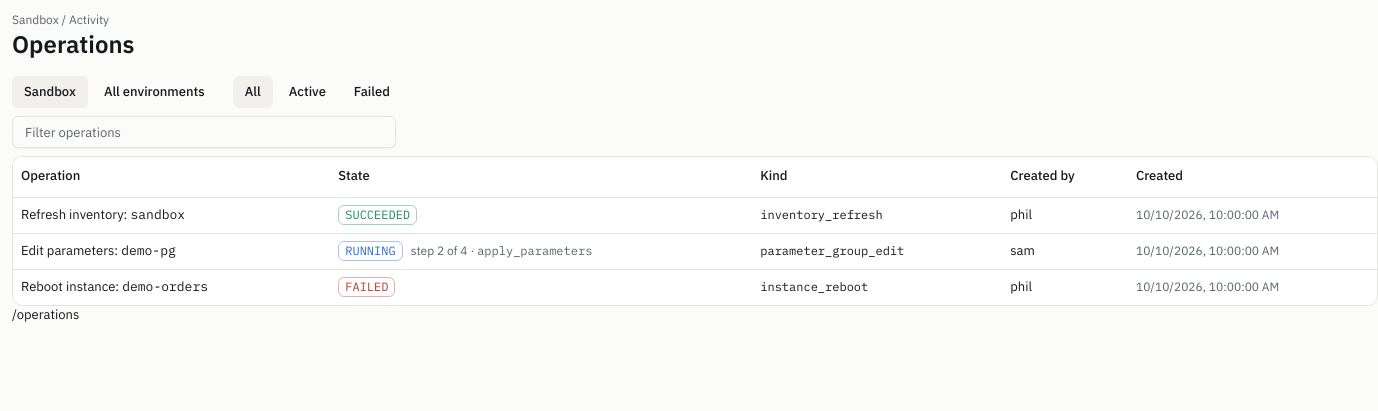
Test: OperationsPage › lists every environment's operations, and imports that belong to none, under All environments
Expected: the link "Refresh inventory: sandbox" is shown, top-left (21, 206), bottom-right (185, 223)
Expected: the link "Import environment: staging" is not shown
Click the button "All environments" at (154, 92), box top-left (92, 76), bottom-right (217, 108)
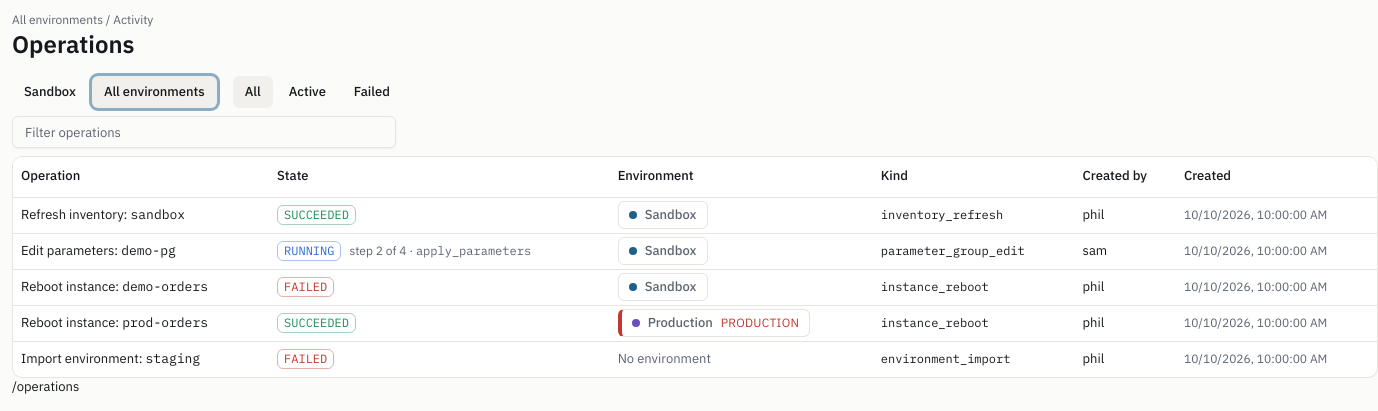
Expected: the text "No environment" is shown, top-left (618, 350), bottom-right (711, 367)
Expected: the text "Production" is shown, top-left (648, 314), bottom-right (713, 332)
Expected: the navigation bar named "Breadcrumb" shows "All environments", top-left (12, 12), bottom-right (103, 27)
